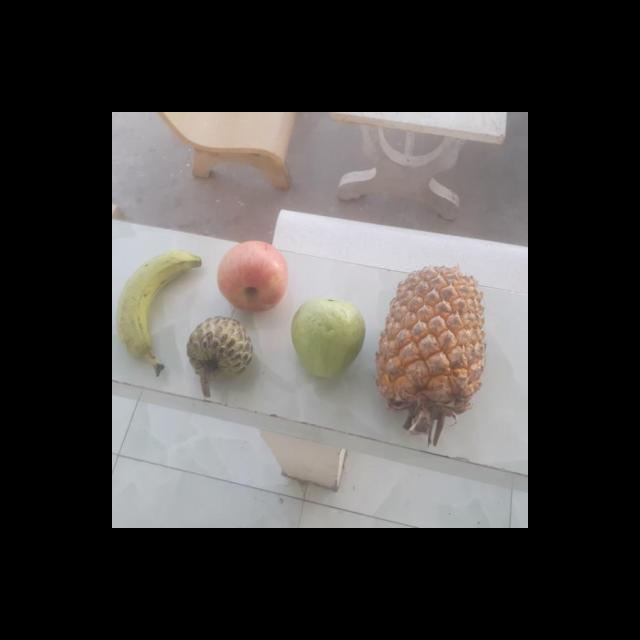Sakya fruit: (186, 316, 256, 397)
apple: (213, 240, 290, 314)
banana: (119, 252, 204, 364)
guava: (290, 297, 364, 378)
pineapple: (380, 263, 490, 413)
